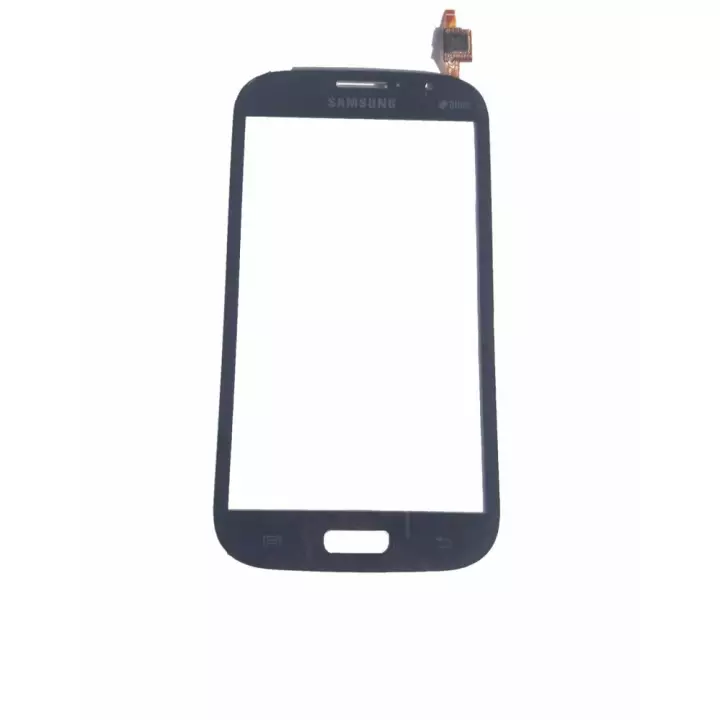Phone: (207, 5, 506, 576)
